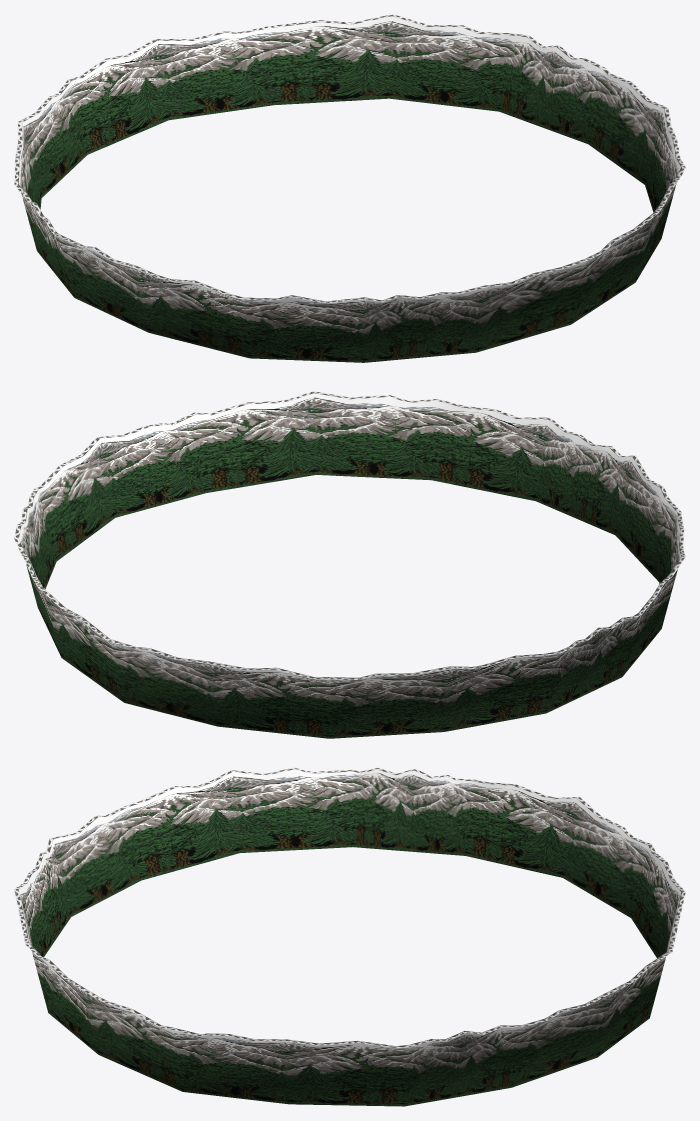
File: mountain_wall.glb
3 renders of one model, top to bottom at view 1: azimuth 30°, elevation 25°; view 2: azimuth 150°, elevation 25°; view 3: azimuth 270°, elevation 25°, orthographic.
Parts seen in each view (by area): view 1: Mountain Wall; view 2: Mountain Wall; view 3: Mountain Wall.
Part boxes in pixels (x1,y1,x2,y2): Mountain Wall: (14, 14, 685, 362); Mountain Wall: (14, 391, 685, 738); Mountain Wall: (14, 767, 685, 1106).
Size of the model in its own units: 208 by 27.42 by 209.
2 materials, 2 textured.
